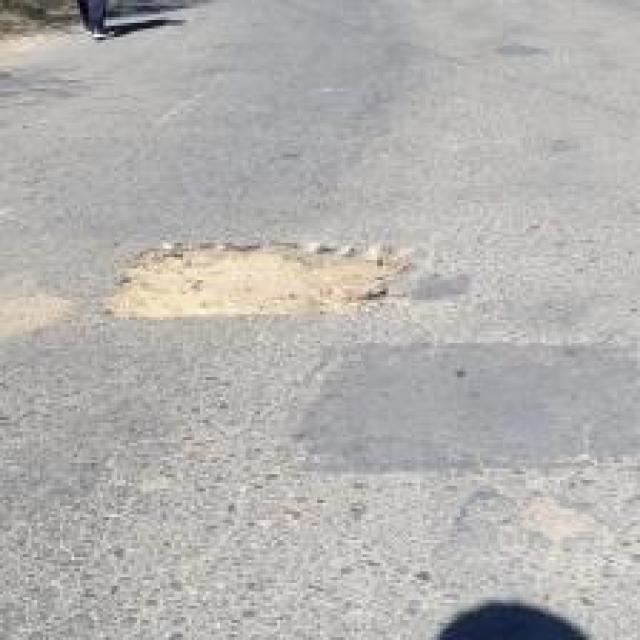BACHE: (106, 244, 408, 318), (0, 293, 72, 338)
PARCHE: (295, 343, 639, 472)
